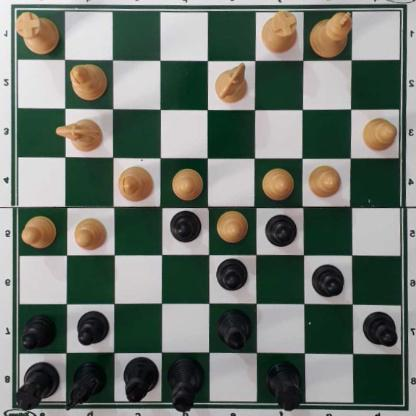black-bishop: (121, 357, 158, 406), (218, 310, 251, 353)
black-king: (166, 359, 204, 415)
black-knight: (68, 361, 106, 413)
black-pawn: (362, 311, 398, 349), (19, 318, 54, 353), (76, 312, 108, 349), (214, 260, 248, 294), (311, 266, 344, 301), (265, 215, 297, 250), (168, 213, 201, 246)
black-rook: (13, 363, 59, 415), (263, 362, 303, 412)
white-bishop: (68, 62, 106, 104), (117, 167, 151, 204)
white-king: (309, 12, 351, 61)
white-knight: (55, 118, 104, 152), (213, 63, 249, 106)
white-pawn: (360, 117, 397, 153), (306, 166, 340, 201), (72, 219, 106, 253), (21, 217, 56, 250), (212, 213, 248, 245), (260, 169, 293, 203), (170, 170, 202, 204)
white-rook: (13, 14, 58, 57), (261, 12, 297, 54)
